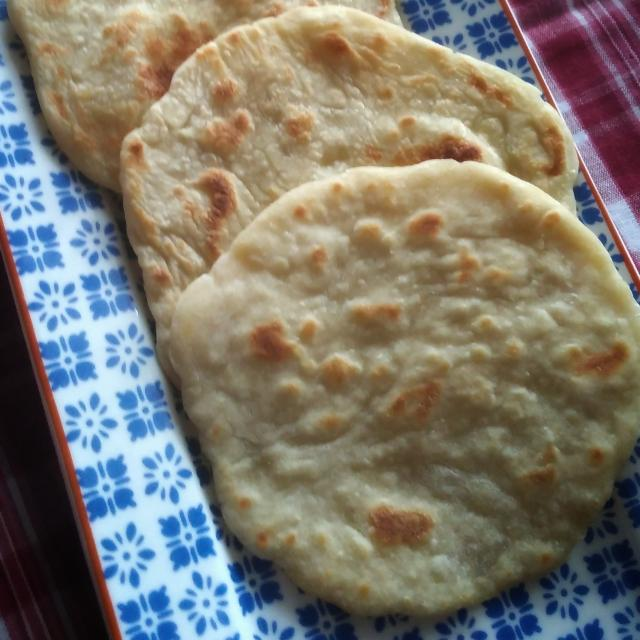roti: (174, 160, 640, 615), (120, 5, 578, 380), (7, 0, 306, 191)
